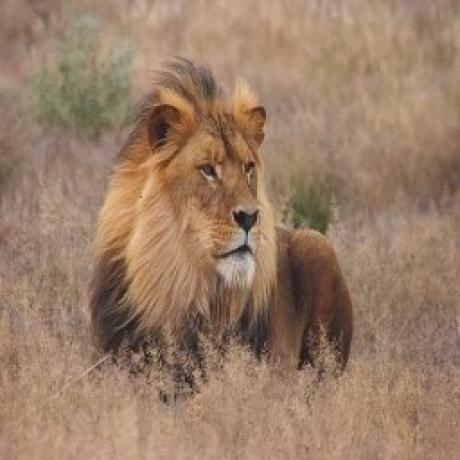Lion: (92, 61, 355, 371)
